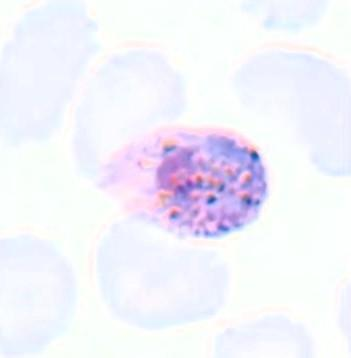Infected: (97, 126, 265, 243)
Uninfected: (234, 50, 351, 180), (74, 48, 186, 183), (97, 219, 228, 326), (0, 0, 86, 148), (0, 238, 74, 358)
